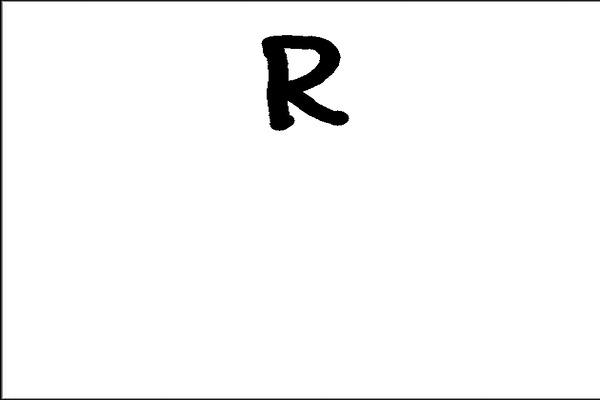R: (252, 26, 361, 136)
